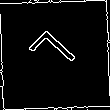L_SE: (26, 27, 84, 83)
